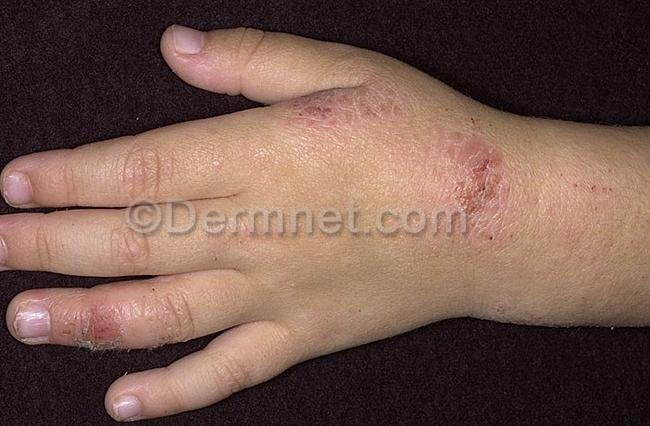Eritema 2: (72, 304, 136, 361)
eritema 1: (423, 118, 514, 250), (269, 78, 408, 138)
excoriacion 2: (73, 304, 138, 360)
liquenificacion 1: (412, 113, 532, 259)
liquenificacion 2: (258, 72, 407, 138)
xerosis 2: (246, 50, 650, 343)
